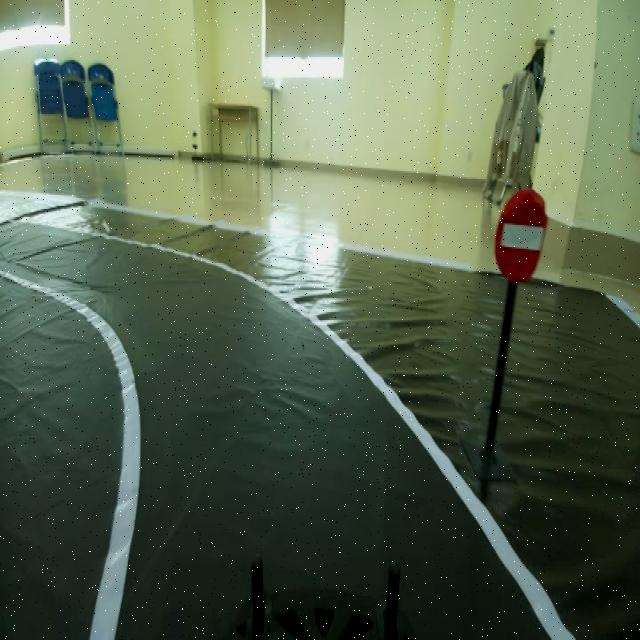no_entry: (497, 188, 553, 294)
